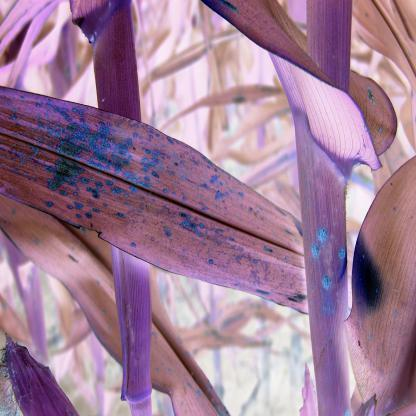Corn rust leaf: (2, 84, 416, 332)
